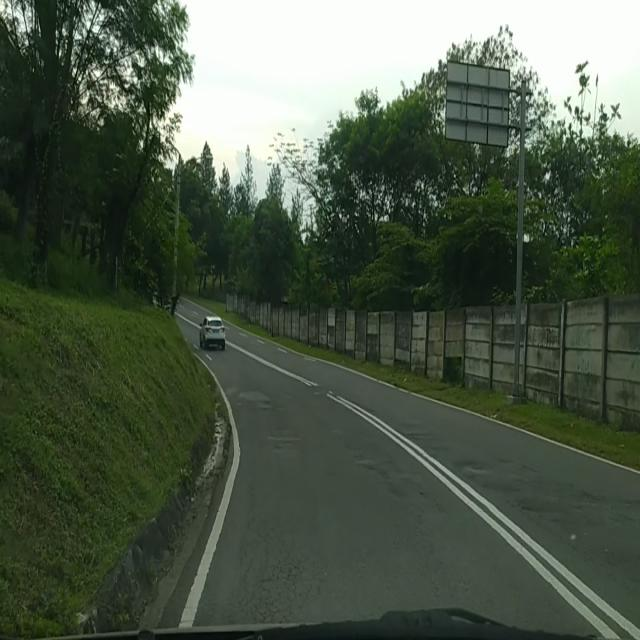Drain Hole: (230, 525, 335, 623)
